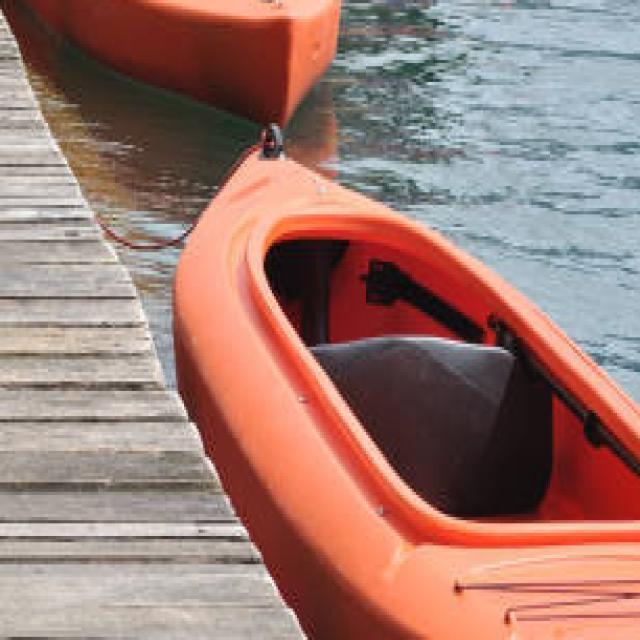kayak: (174, 142, 640, 640)
